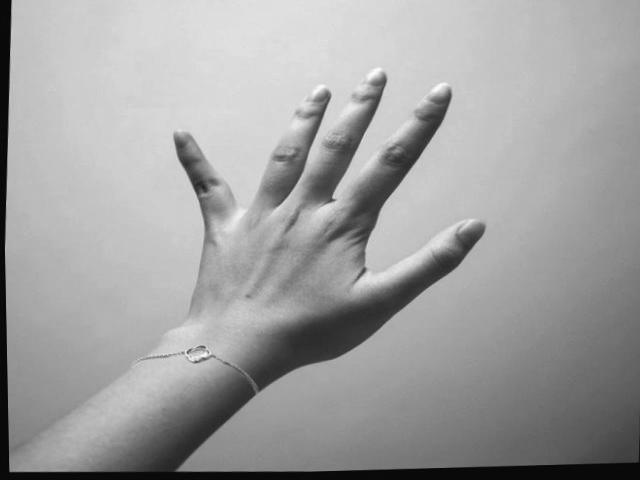not-gloved: (173, 67, 487, 363)
